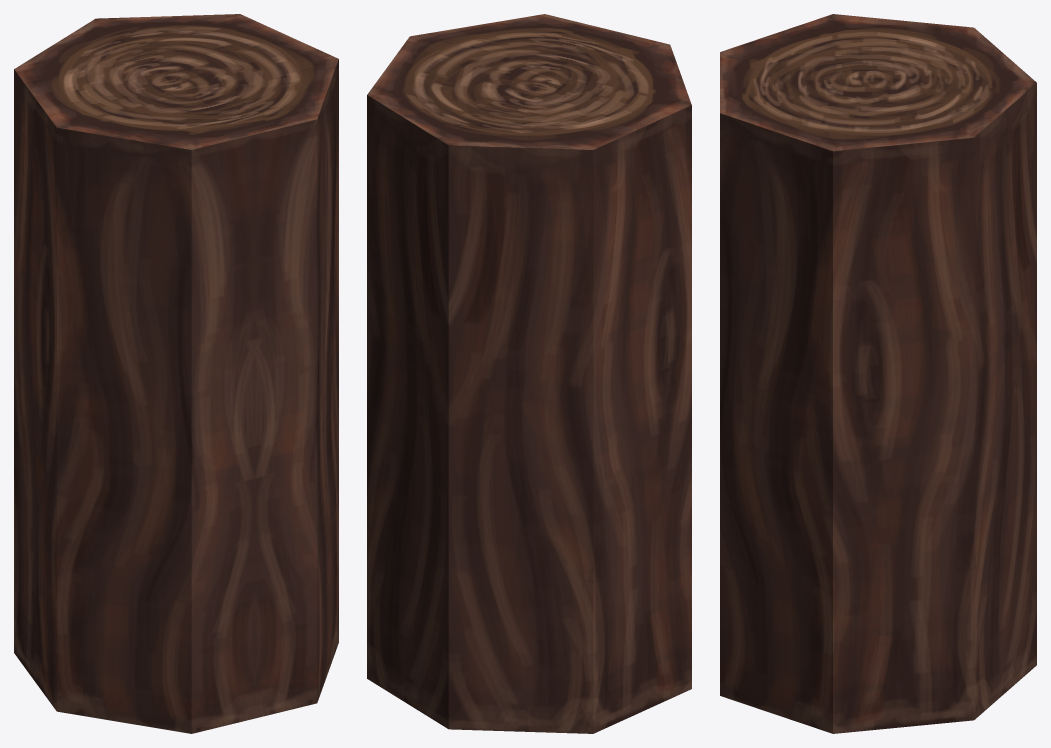
Rendered from Low_Poly_Log.fbx.
3 views of the same model, side by side, from view 1: azimuth 30°, elevation 25°; view 2: azimuth 150°, elevation 25°; view 3: azimuth 270°, elevation 25° (orthographic).
Visible parts, largest first — view 1: Cylinder; view 2: Cylinder; view 3: Cylinder.
Part boxes in pixels (x1,y1,x2,y2): Cylinder: [14, 14, 338, 733]; Cylinder: [367, 14, 691, 733]; Cylinder: [720, 14, 1036, 733].
Bounding box in the file's own units: 27.3 × 54 × 26.61.
